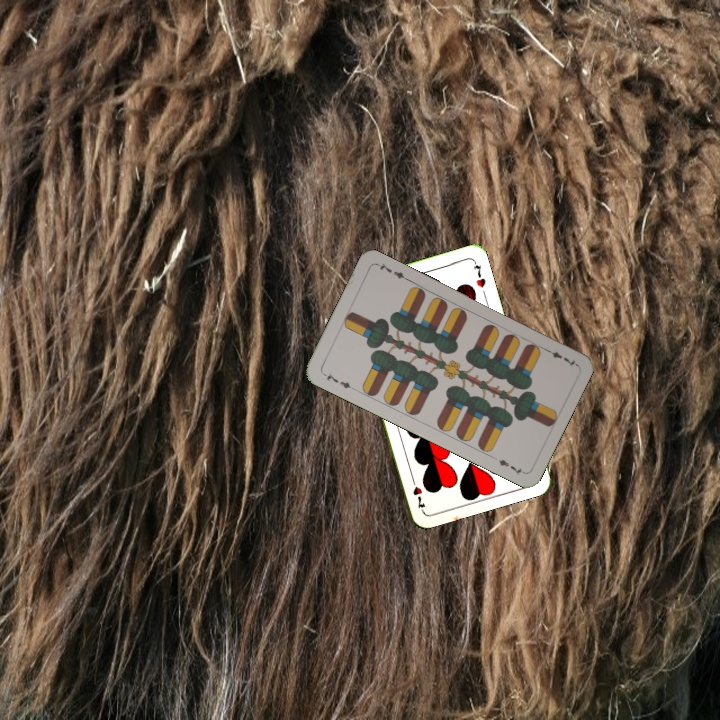E7: (541, 344, 579, 369), (319, 369, 357, 393)
